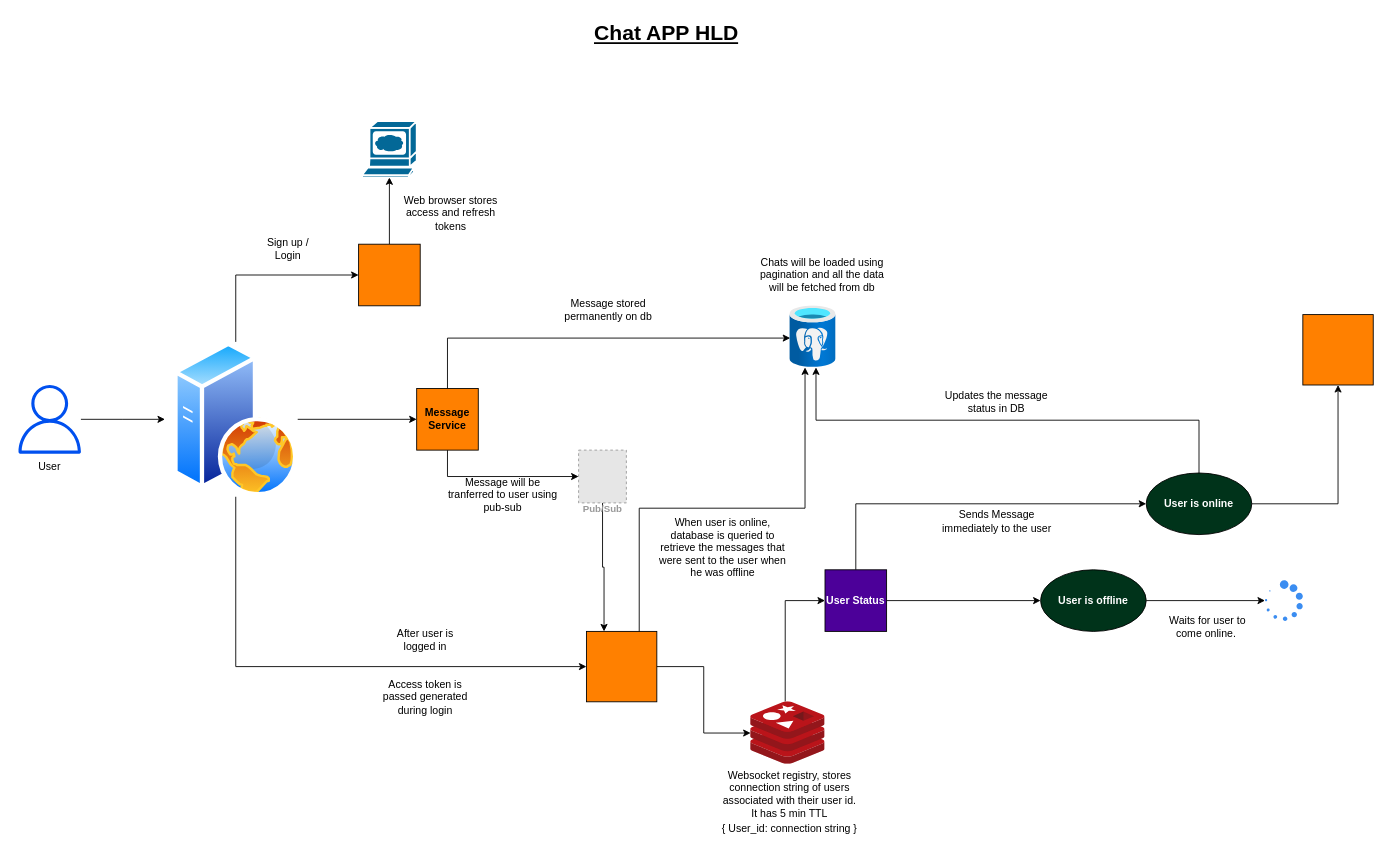
Some shapes in this 1389 by 857 pixel diagram are drawn without their labels. Grey dashed boxes stand in for pictures. Each missing label, with the box of its shape:
Auth Service: (358, 243, 420, 306)
Notification Service: (1302, 314, 1373, 385)
Websocket Connection Service: (586, 631, 657, 702)
